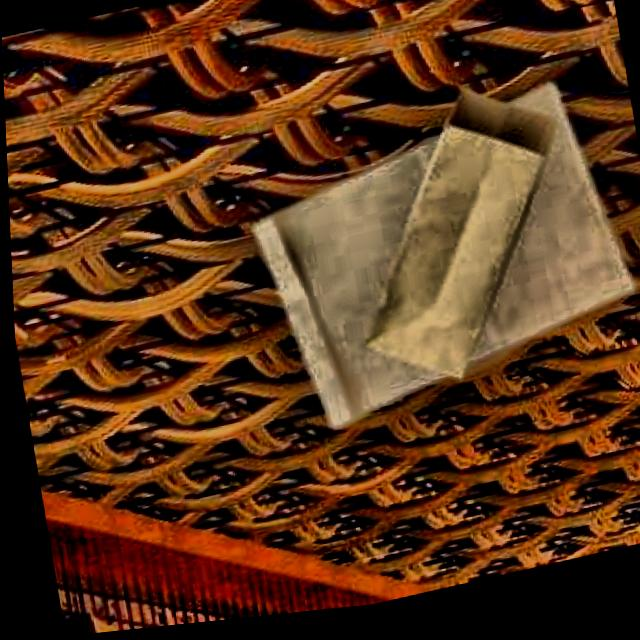Paper-bag: (217, 63, 640, 465), (325, 75, 593, 413)
